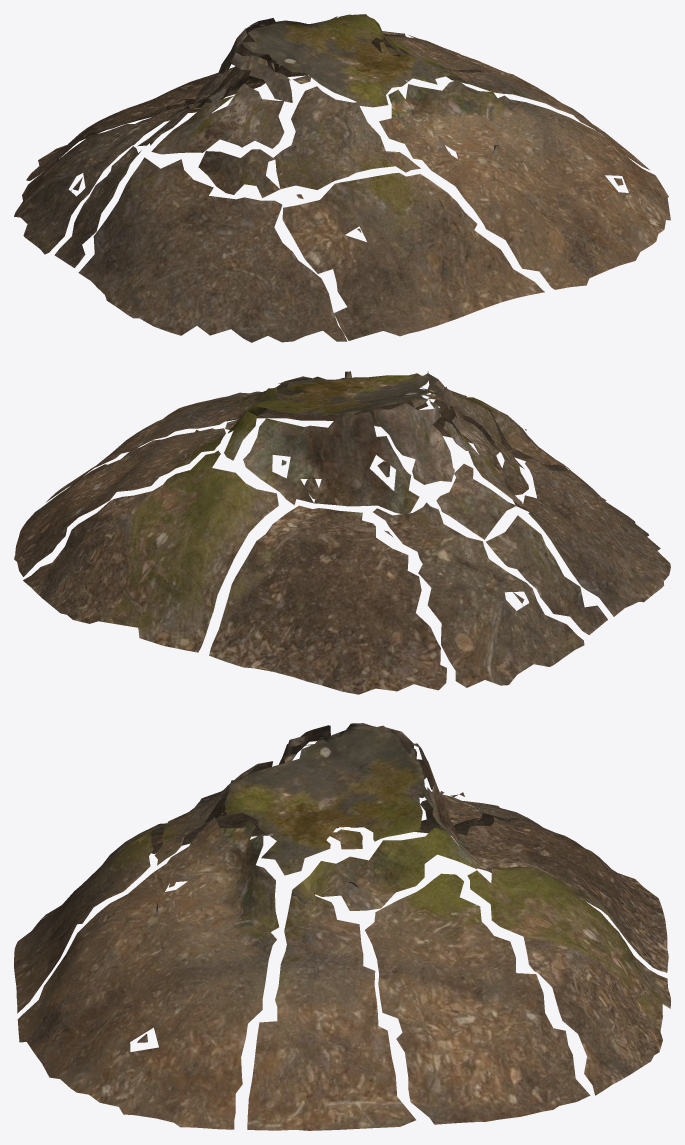
The model's file is stump2.glb.
3 renders of one model, top to bottom at view 1: azimuth 30°, elevation 25°; view 2: azimuth 150°, elevation 25°; view 3: azimuth 270°, elevation 25°, orthographic. The views are drawn at different scales.
Visible parts, largest first — view 1: tree_stump_02; view 2: tree_stump_02; view 3: tree_stump_02.
Boxes of the visible parts, box(x1,y1,x2,y2) form: tree_stump_02: box(14, 14, 670, 342); tree_stump_02: box(14, 371, 670, 694); tree_stump_02: box(14, 723, 670, 1130).
Bounding box in the file's own units: 1.51 × 0.5135 × 1.37.
1 material, 1 textured.
